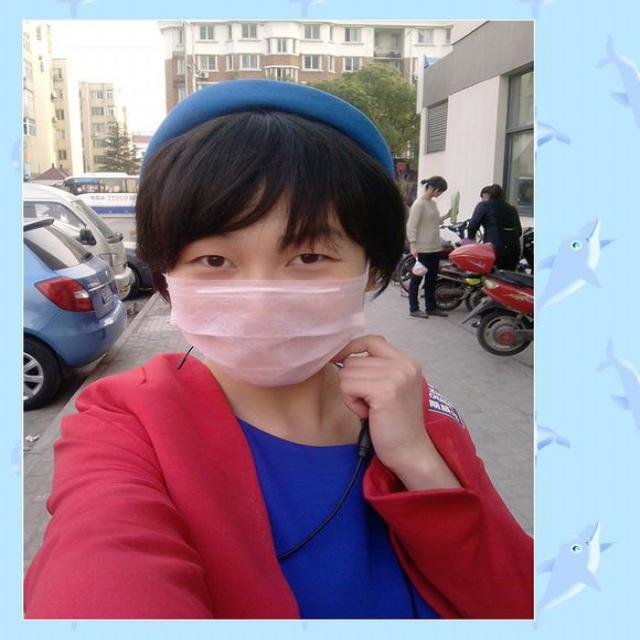mask: (166, 170, 368, 385)
